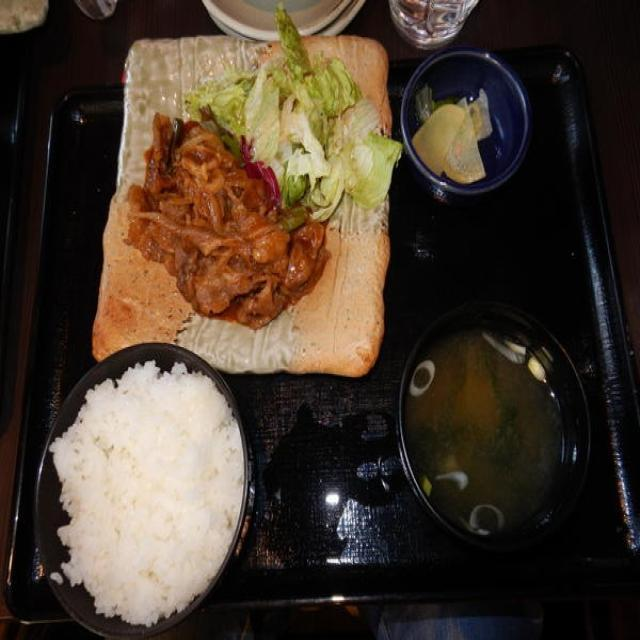Rice: (52, 358, 246, 610)
